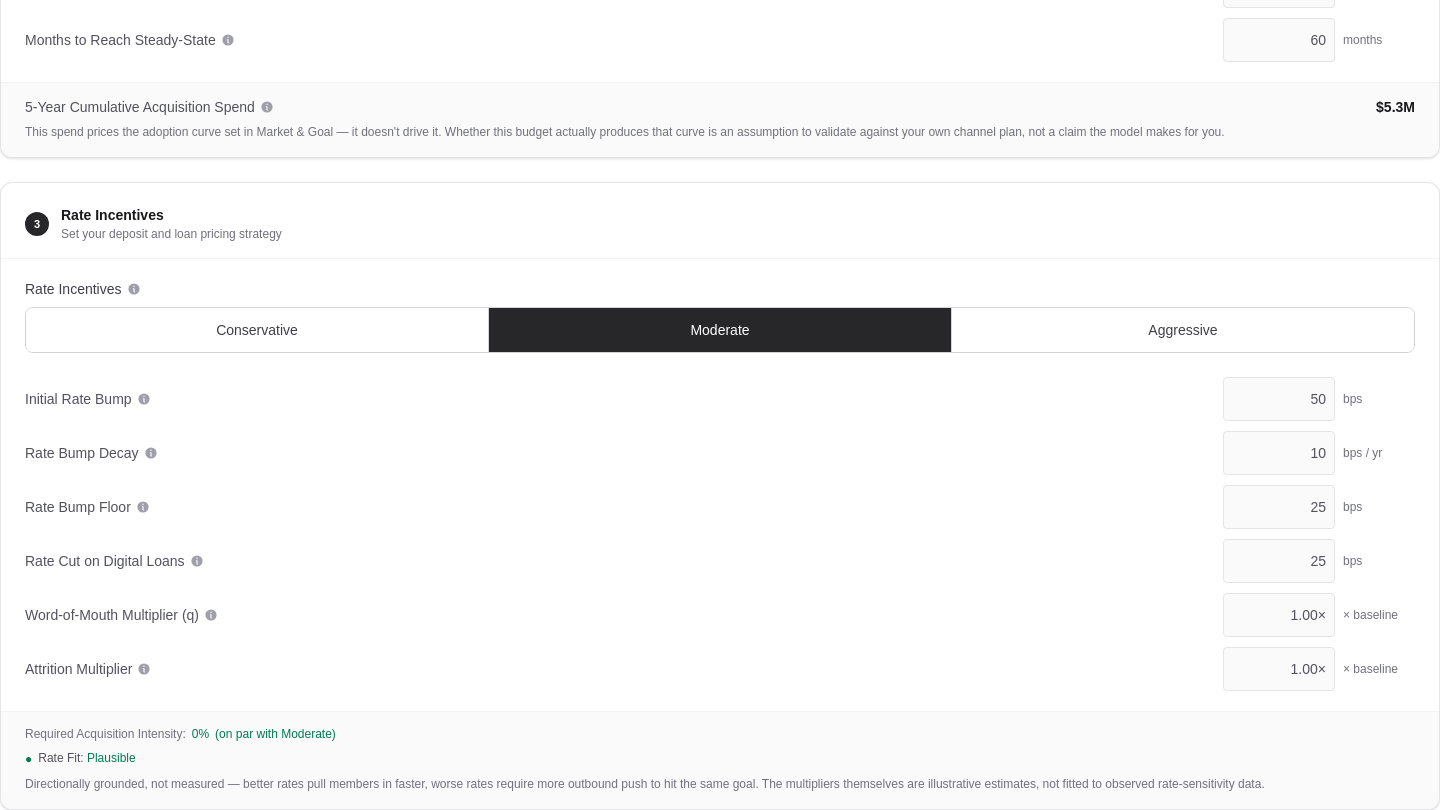
it: ModelInputs › Card 3 — read-only Rate Incentives mechanism fields › Attrition Multiplier tooltip shows the resulting effective attrition rates when calibration is present
The image size is (1440, 810).
(page scrolled)
Hover over the button named "more information" next to "Attrition Multiplier" at (144,669), box x1=136 y1=661 x2=152 y2=677
(page scrolled)
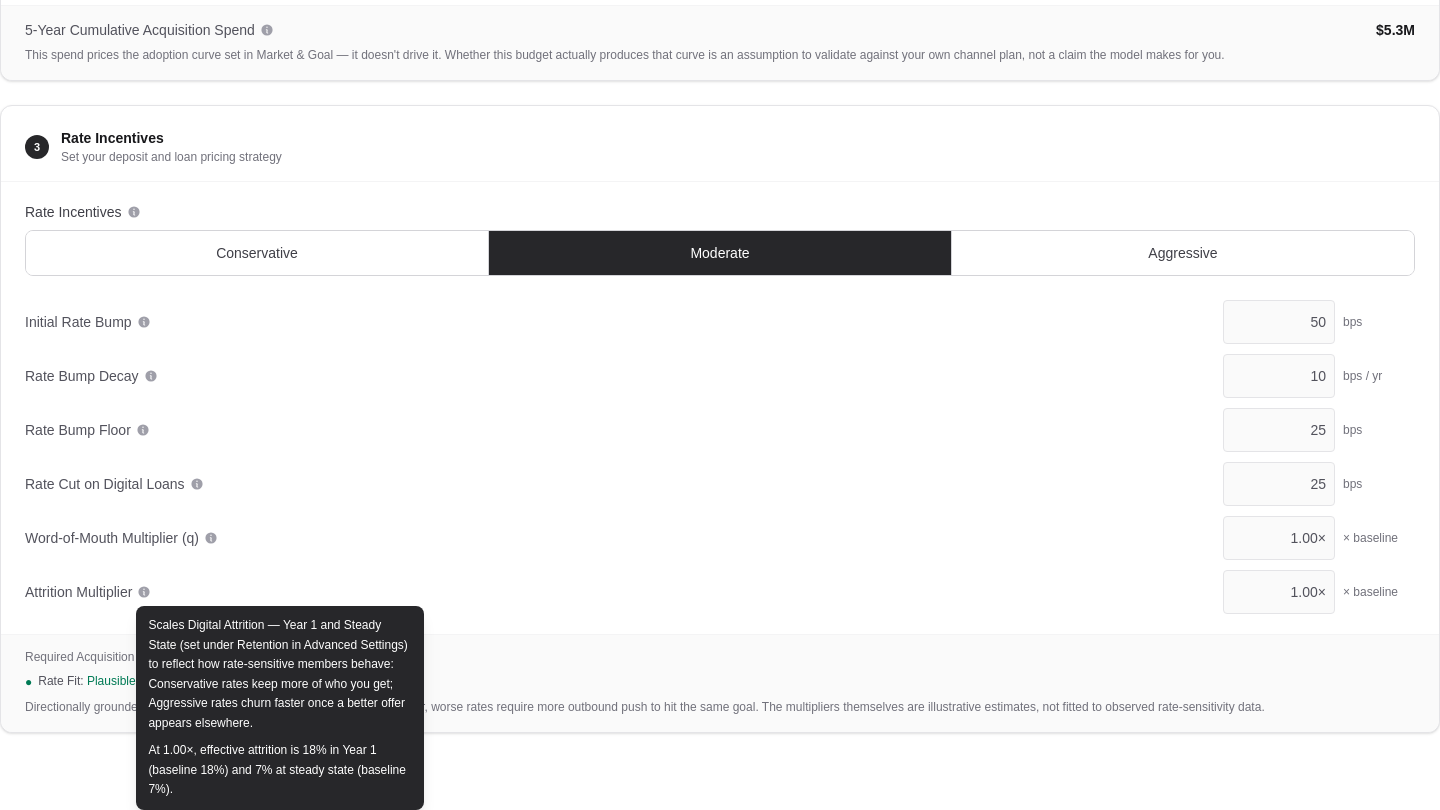
expect the tooltip shows "effective attrition": met, box x1=186 y1=743 x2=299 y2=757
